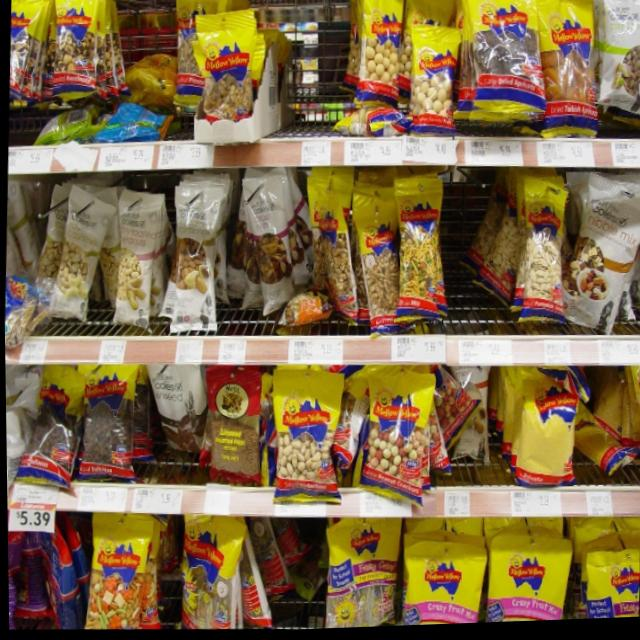q88: (360, 366, 439, 520)
